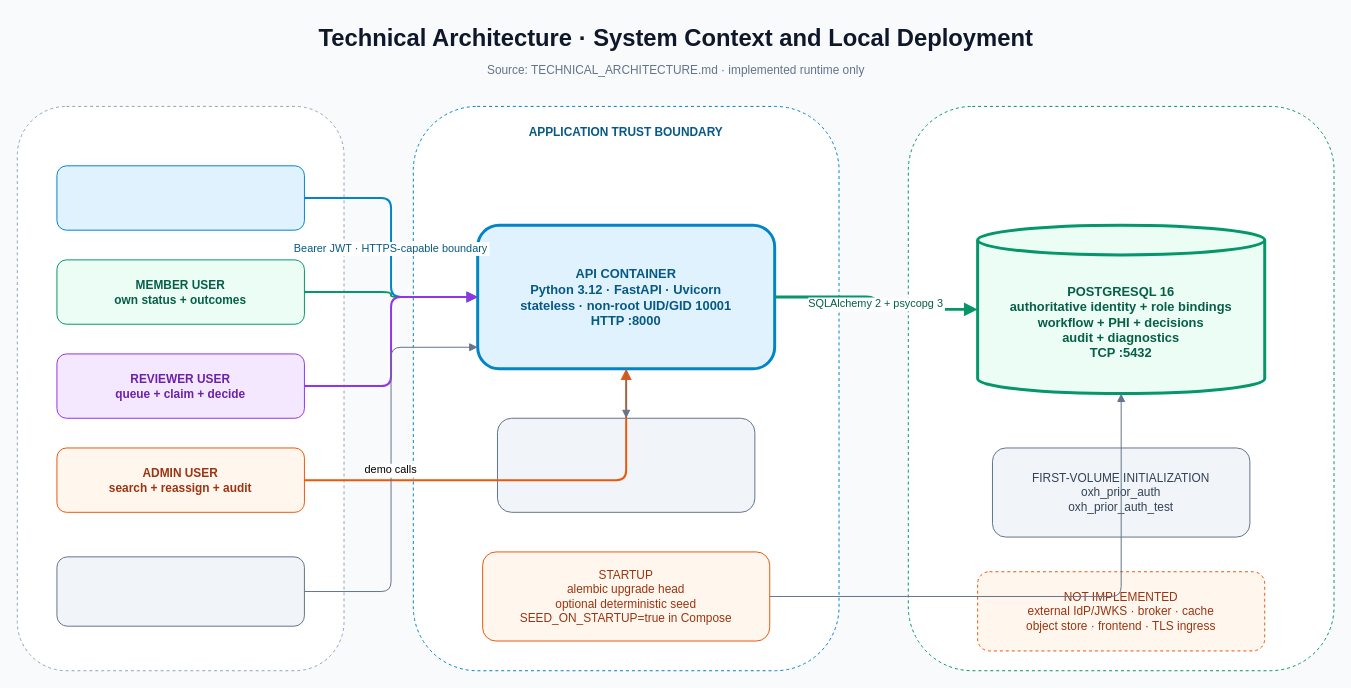
Image size: 1351x688. Some labels were removed from this diagram. Here are the shapes that lost their labels. From the top down, the box of each, then its label:
(56, 165, 304, 230): OFFICE USER practice-scoped submit + track
(16, 105, 344, 671): CALLERS / CLIENT TRUST ZONE
(907, 105, 1334, 671): DATA TRUST BOUNDARY
(496, 417, 755, 512): HS256 JWT validation sub · role · iss · aud · exp + active users row
(56, 556, 304, 626): LOCAL DEMO TOOLING Postman / Bruno · app.tokens
